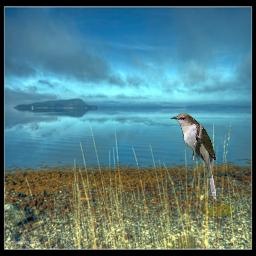Cuckoo: (170, 113, 217, 200)
